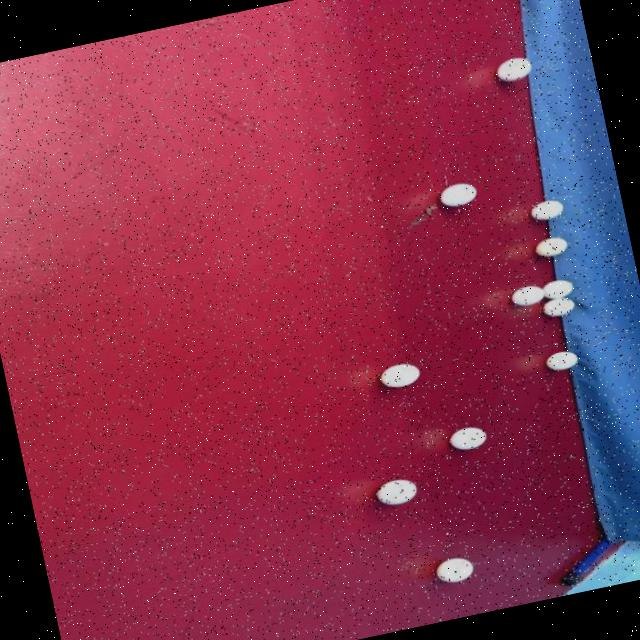ping-pong-ball: (370, 472, 423, 511), (489, 50, 538, 87), (430, 550, 477, 588), (442, 420, 494, 454), (376, 357, 424, 392), (434, 177, 480, 211), (540, 344, 582, 376), (526, 193, 570, 223), (532, 231, 574, 260), (508, 280, 548, 309), (540, 294, 577, 318), (542, 276, 576, 300)
